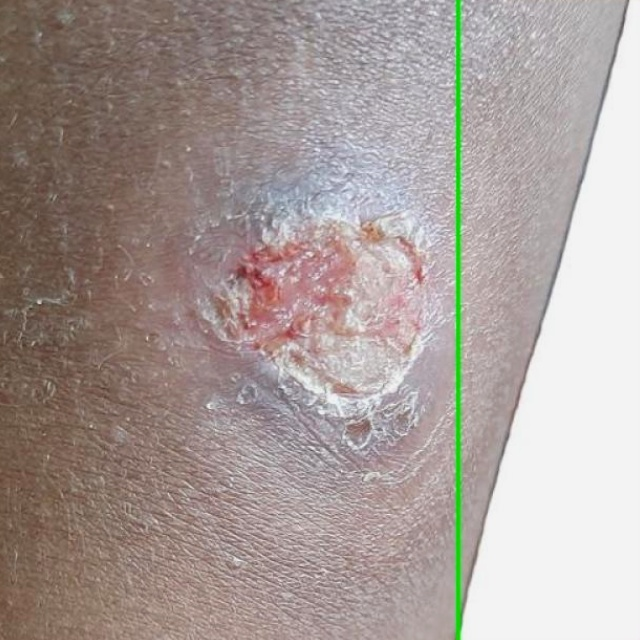Eczema: (458, 0, 639, 639)
